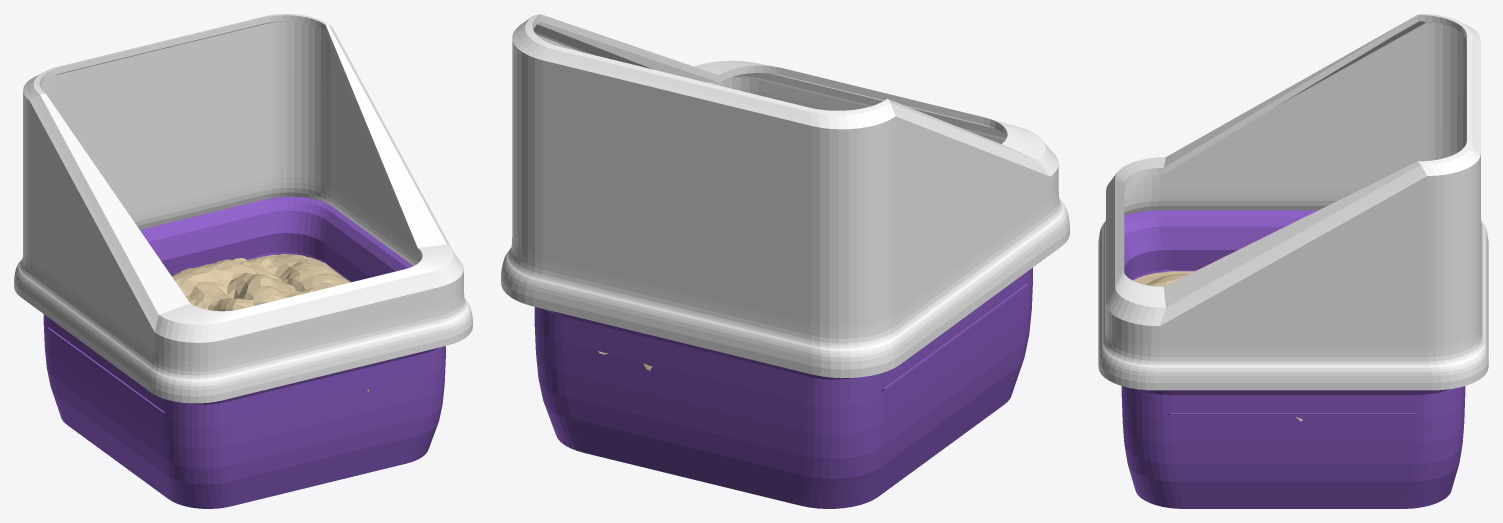
Rendered from catTolet.obj.
The picture shows the model from 3 angles, left to right: view 1: azimuth 30°, elevation 25°; view 2: azimuth 150°, elevation 25°; view 3: azimuth 270°, elevation 25°; orthographic projection. The views are drawn at different scales.
Visible parts, largest first — view 1: Plane.003; view 2: Plane.003; view 3: Plane.003.
Boxes of the visible parts, x1,y1,x2,y2 form: Plane.003: [14, 14, 472, 508]; Plane.003: [501, 14, 1069, 508]; Plane.003: [1098, 14, 1488, 508].
Bounding box in the file's own units: 0.5 × 0.5 × 0.5.
